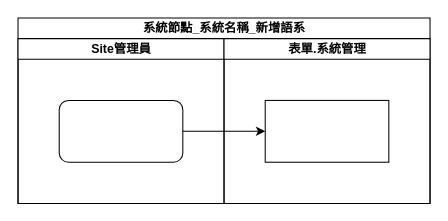
This 448x221 diagram has some shape labels left out. The centre of each missing label's shape, as x and y in pixels:
新增一筆 空白語系名稱: pixel 326 130
點擊按鈕.新增語系: pixel 120 130
